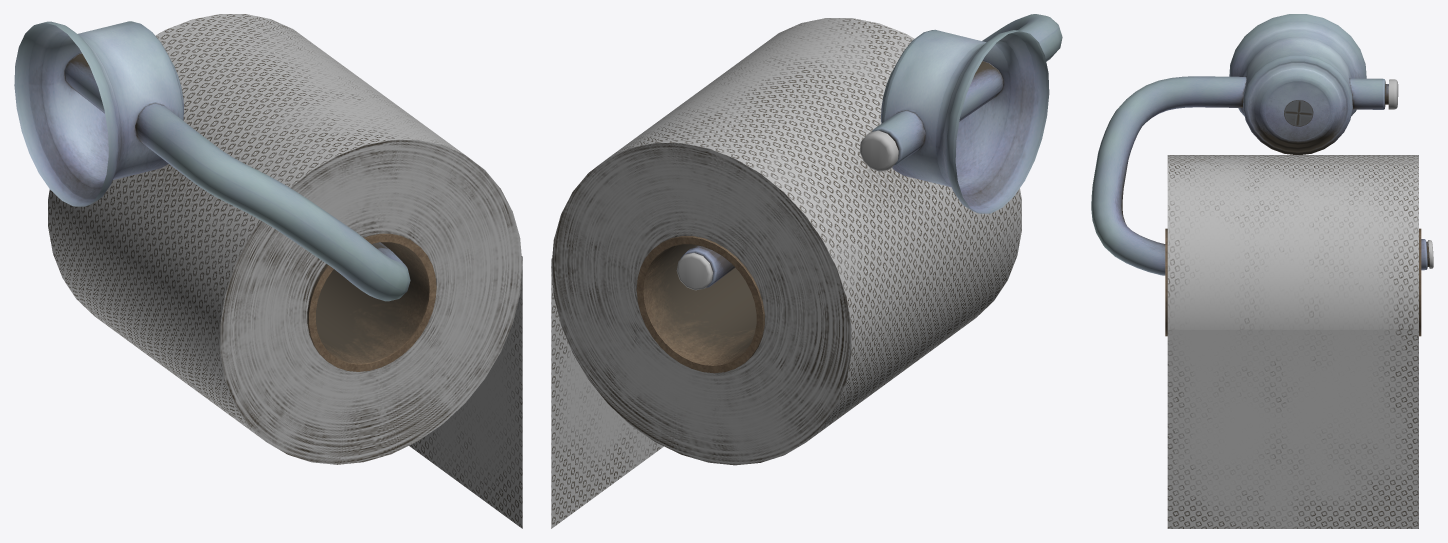
The model's file is toilet_paper_holder_-_12mb.glb.
3 views of the same model, side by side, from view 1: azimuth 30°, elevation 25°; view 2: azimuth 150°, elevation 25°; view 3: azimuth 270°, elevation 25° (orthographic). The views are drawn at different scales.
Visible parts, largest first — view 1: Cylinder, Disc, Sweep, Cylinder_1; view 2: Cylinder, Disc, Cylinder_1, Sweep; view 3: Cylinder_1, Cylinder, Disc, Sweep.
Part boxes in pixels (x1=…): Cylinder: x1=48, y1=14, x2=522, y2=464; Disc: x1=14, y1=21, x2=183, y2=206; Sweep: x1=64, y1=53, x2=410, y2=301; Cylinder_1: x1=409, y1=256, x2=522, y2=528; Cylinder: x1=551, y1=18, x2=1021, y2=465; Disc: x1=881, y1=29, x2=1049, y2=213; Cylinder_1: x1=551, y1=258, x2=663, y2=528; Sweep: x1=676, y1=14, x2=1062, y2=290; Cylinder_1: x1=1167, y1=330, x2=1418, y2=528; Cylinder: x1=1165, y1=155, x2=1421, y2=336; Disc: x1=1229, y1=14, x2=1366, y2=154; Sweep: x1=1091, y1=76, x2=1433, y2=275.
Bounding box in the file's own units: 241 × 324 × 263.
Materials: 1 (1 with a texture image).
